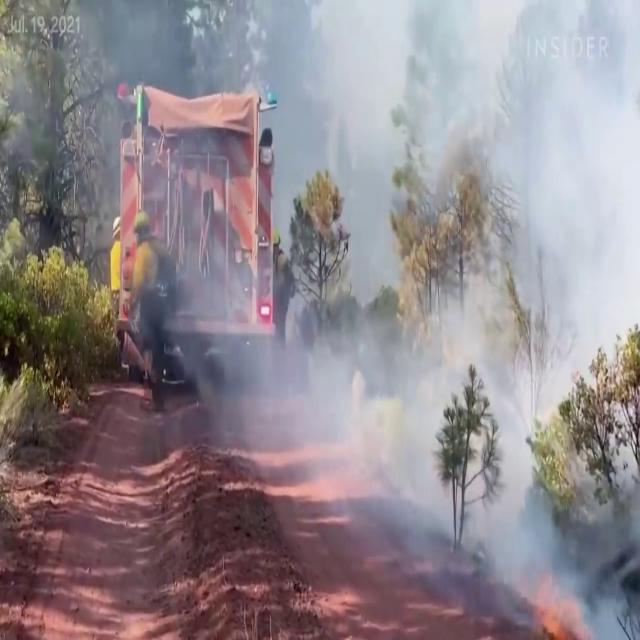Smoke: (178, 223, 614, 601)
